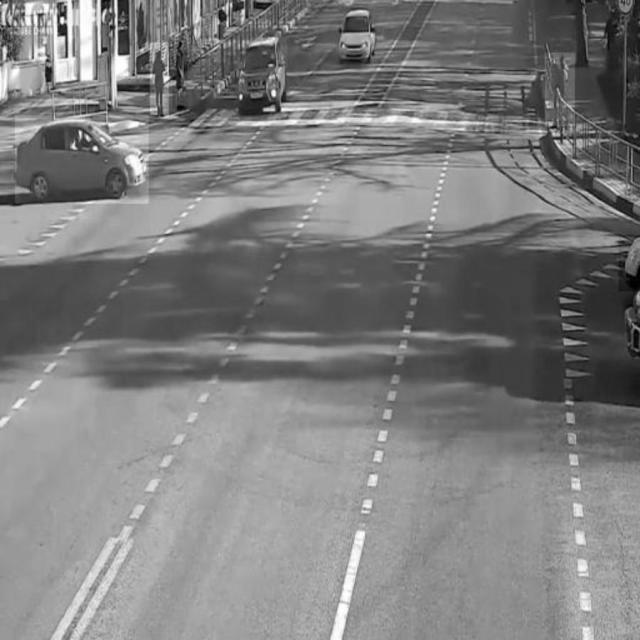person: (546, 53, 576, 126), (150, 43, 168, 115), (173, 38, 188, 109)
vehicle: (15, 116, 149, 204), (238, 38, 288, 109), (338, 8, 380, 65), (619, 235, 639, 291)
